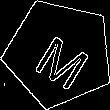M_NE: (26, 20, 92, 87)
